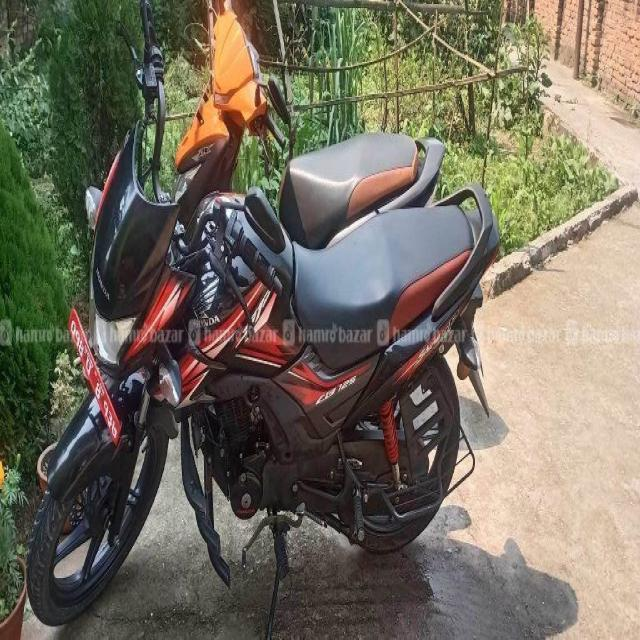License-plate: (66, 312, 119, 446)
